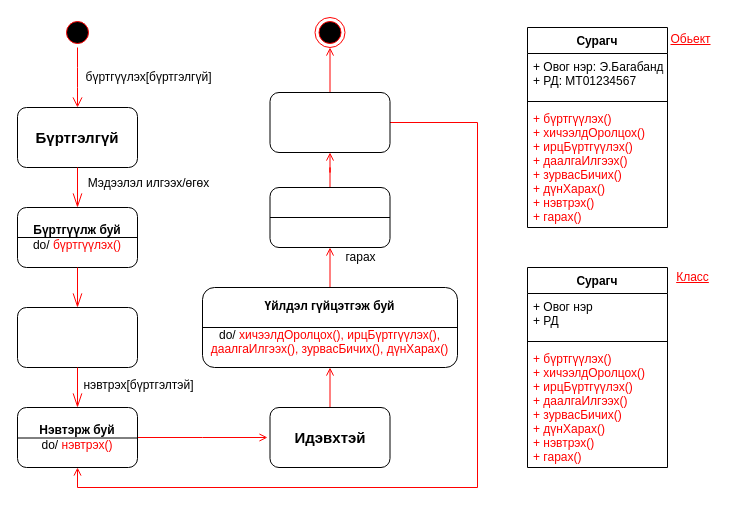
This 735x513 diagram has some shape labels left out. The centre of each missing label's shape, as x and y in pixels:
"Бүртгэлтэй" belongs at [77,337].
"Гарч буй do/ гарах()" belongs at [329,217].
"Идэвхгүй" belongs at [329,122].
